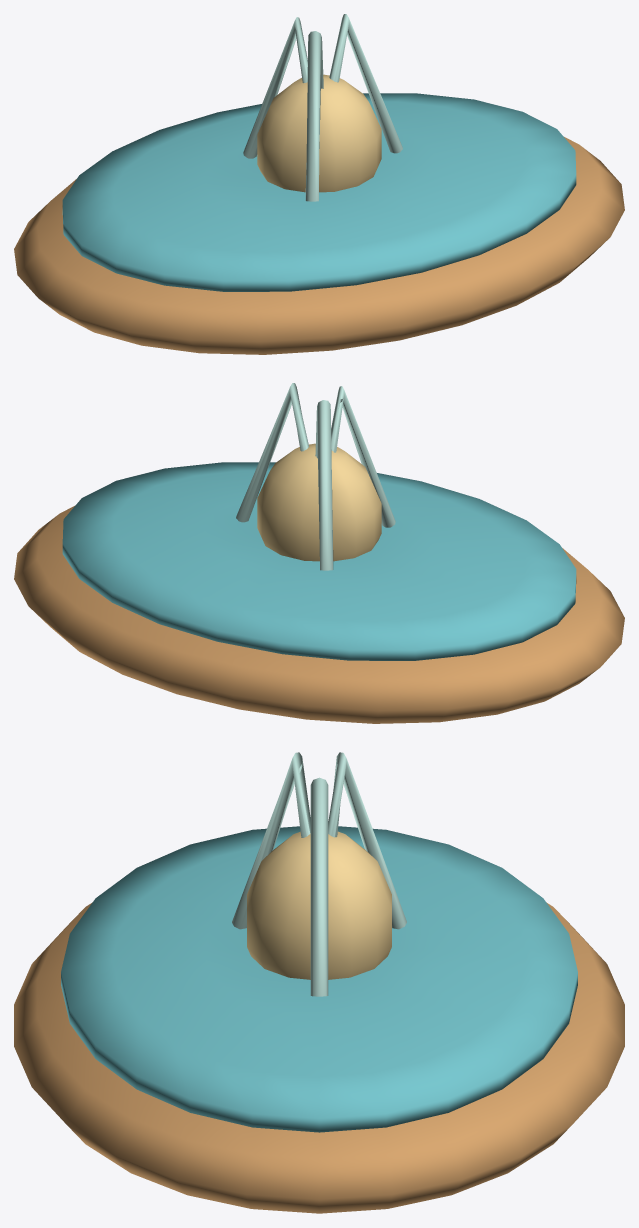
Rendered from fountain_2.glb.
3 renders of one model, top to bottom at view 1: azimuth 30°, elevation 25°; view 2: azimuth 150°, elevation 25°; view 3: azimuth 270°, elevation 25°, orthographic. The views are drawn at different scales.
Parts seen in each view (by area): view 1: Fountain; view 2: Fountain; view 3: Fountain.
Part boxes in pixels (x1,y1,x2,y2): Fountain: (14,14,624,354); Fountain: (14,383,624,723); Fountain: (14,752,624,1213).
Size of the model in its own units: 2.7 by 1.22 by 2.01.
